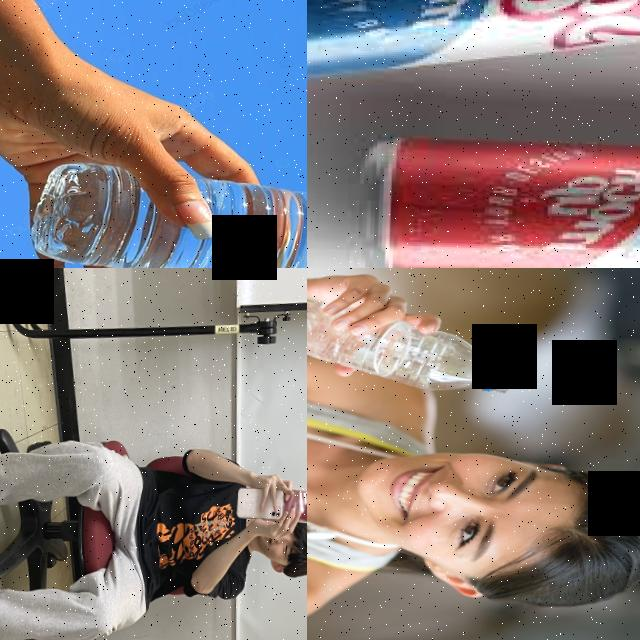bottle: (27, 159, 307, 268), (307, 276, 520, 393)
can: (357, 135, 640, 268), (307, 0, 640, 94)
